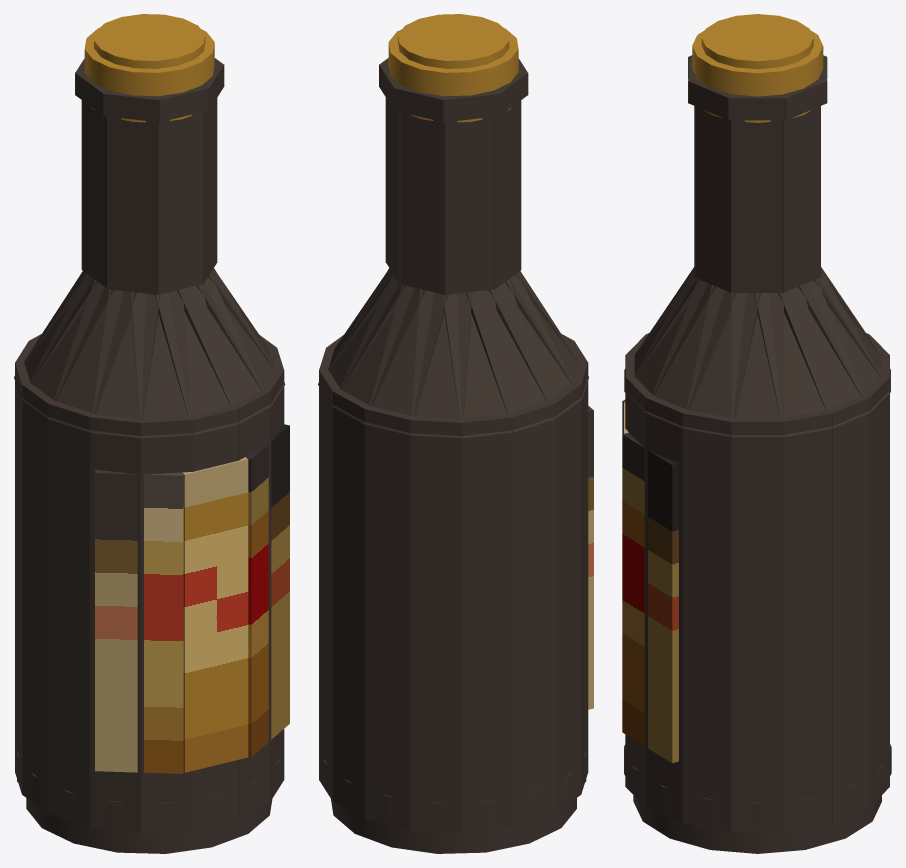
The model's file is CMU3DDrinkCoffeeLiqueurBottleFullDrinksExtraCloud.glb.
3 views of the same model, side by side, from view 1: azimuth 30°, elevation 25°; view 2: azimuth 150°, elevation 25°; view 3: azimuth 270°, elevation 25° (orthographic).
Visible parts, largest first — view 1: source front label tangent 0, source front label tangent 1, continuous hollow body wall 09, source front label tangent 2, continuous hollow body wall 08, hollow bottle neck 06, continuous hollow body wall 10, hollow bottle neck 07, continuous hollow body wall 11, cap top crown, continuous hollow body wall 12, thick bottle heel (+20 smaller); view 2: continuous hollow body wall 05, continuous hollow body wall 06, continuous hollow body wall 04, continuous hollow body wall 07, continuous hollow body wall 03, continuous hollow body wall 08, hollow bottle neck 04, hollow bottle neck 03, continuous hollow body wall 02, cap top crown, thick bottle heel, smooth tapered shoulder sector 5 (+19 smaller); view 3: continuous hollow body wall 00, continuous hollow body wall 15, continuous hollow body wall 01, source front label tangent 2, continuous hollow body wall 02, hollow bottle neck 01, continuous hollow body wall 03, hollow bottle neck 08, continuous hollow body wall 14, hollow bottle neck 02, cap top crown, thick bottle heel (+15 smaller).
Boxes of the visible parts, x1,y1,x2,y2 form: source front label tangent 0: [95, 469, 183, 773]; source front label tangent 1: [182, 457, 248, 772]; continuous hollow body wall 09: [48, 402, 95, 827]; source front label tangent 2: [245, 424, 289, 757]; continuous hollow body wall 08: [22, 382, 56, 813]; hollow bottle neck 06: [107, 117, 159, 294]; continuous hollow body wall 10: [89, 413, 142, 832]; hollow bottle neck 07: [157, 112, 204, 294]; continuous hollow body wall 11: [139, 416, 193, 833]; cap top crown: [94, 14, 205, 68]; continuous hollow body wall 12: [189, 405, 238, 829]; thick bottle heel: [26, 798, 272, 853]; continuous hollow body wall 05: [410, 416, 463, 833]; continuous hollow body wall 06: [462, 414, 513, 832]; continuous hollow body wall 04: [364, 406, 414, 829]; continuous hollow body wall 07: [508, 401, 555, 827]; continuous hollow body wall 03: [333, 389, 371, 818]; continuous hollow body wall 08: [547, 382, 580, 813]; hollow bottle neck 04: [444, 116, 495, 294]; hollow bottle neck 03: [399, 111, 445, 294]; continuous hollow body wall 02: [319, 370, 339, 801]; cap top crown: [398, 14, 509, 68]; thick bottle heel: [331, 798, 576, 853]; smooth tapered shoulder sector 5: [410, 289, 472, 438]; continuous hollow body wall 00: [731, 418, 784, 831]; continuous hollow body wall 15: [682, 410, 735, 831]; continuous hollow body wall 01: [780, 410, 832, 831]; source front label tangent 2: [622, 432, 678, 763]; continuous hollow body wall 02: [829, 395, 869, 823]; hollow bottle neck 01: [731, 120, 784, 292]; continuous hollow body wall 03: [862, 377, 889, 807]; hollow bottle neck 08: [694, 106, 732, 292]; continuous hollow body wall 14: [645, 396, 685, 822]; hollow bottle neck 02: [783, 106, 820, 292]; cap top crown: [701, 14, 813, 69]; thick bottle heel: [633, 795, 881, 853].
Size of what is drawn, in the model's own units: 0.229 by 0.721 by 0.2302.
5 materials, 3 textured.
